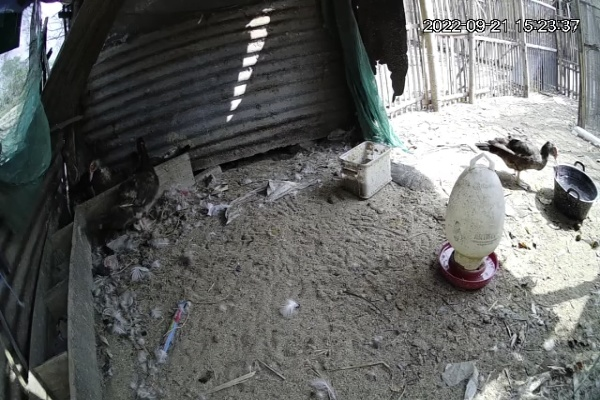Entog: (471, 123, 563, 188)
